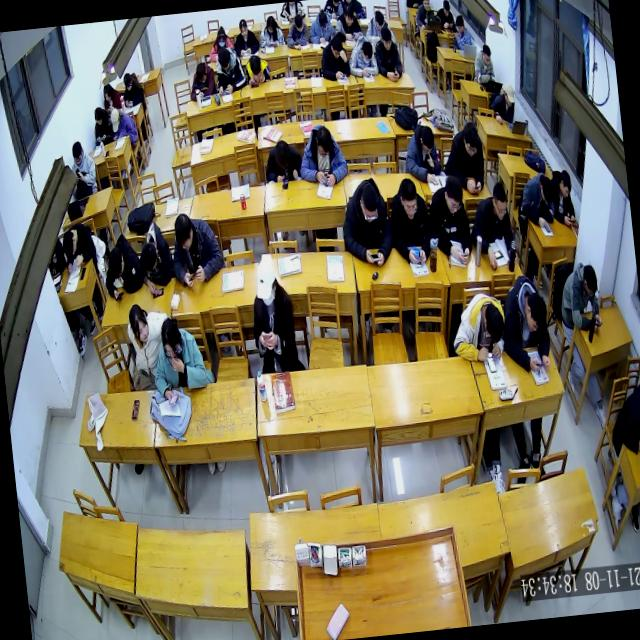bow: (133, 220, 176, 292), (99, 232, 145, 296), (516, 169, 557, 230), (54, 220, 96, 272), (346, 30, 380, 80), (186, 57, 217, 100), (242, 52, 271, 88)
down: (522, 288, 548, 332), (396, 176, 419, 222), (158, 318, 181, 362), (442, 174, 465, 217), (172, 211, 196, 252), (358, 182, 381, 224), (482, 303, 506, 341), (490, 180, 510, 220), (460, 120, 480, 158), (105, 244, 126, 280), (314, 122, 333, 158), (272, 139, 292, 173), (138, 237, 158, 270), (582, 261, 598, 297), (59, 225, 78, 255), (539, 172, 555, 202), (418, 120, 434, 150), (378, 24, 394, 54), (558, 169, 572, 199), (328, 36, 344, 60), (502, 82, 516, 108), (195, 58, 208, 84), (360, 40, 374, 64), (216, 48, 231, 70), (71, 142, 84, 166), (290, 10, 304, 32), (109, 108, 122, 131), (91, 105, 105, 126), (100, 82, 114, 103), (248, 55, 262, 76), (480, 43, 492, 67), (454, 15, 466, 38), (343, 4, 354, 27), (215, 26, 227, 47), (265, 13, 276, 34), (317, 7, 328, 28), (122, 72, 133, 92), (238, 16, 248, 37), (374, 10, 384, 30), (441, 0, 451, 19)
lookup: (251, 258, 279, 306), (420, 0, 429, 9)
sit: (245, 252, 300, 372), (336, 174, 397, 270), (146, 313, 208, 402), (498, 274, 553, 369), (167, 208, 226, 288), (428, 174, 478, 266), (123, 296, 172, 388), (386, 173, 436, 263), (447, 290, 508, 362), (467, 182, 518, 268), (440, 120, 489, 199), (555, 258, 603, 336), (294, 121, 348, 189), (400, 118, 442, 186), (262, 134, 304, 184), (373, 23, 404, 82), (64, 137, 97, 190), (212, 42, 246, 92), (548, 164, 576, 223), (318, 32, 351, 82), (331, 2, 364, 44), (488, 81, 518, 125), (362, 6, 394, 46), (206, 23, 236, 62), (470, 42, 496, 86), (108, 101, 138, 139), (306, 8, 336, 45), (231, 15, 260, 52), (256, 8, 284, 46), (90, 102, 114, 145), (317, 0, 365, 21), (120, 70, 146, 108), (284, 13, 310, 51), (449, 12, 472, 50), (99, 80, 122, 114), (433, 0, 455, 29), (278, 0, 306, 22), (413, 0, 435, 26), (404, 0, 422, 7)
